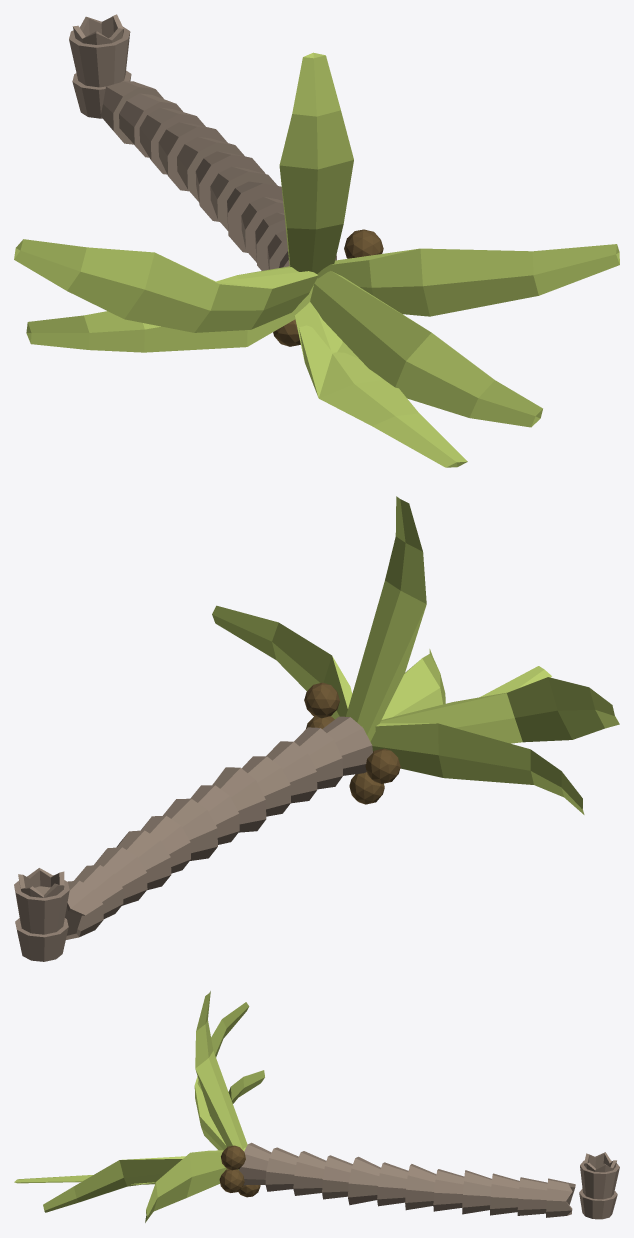
Rendered from Palmtree_2 Broken.fbx.
3 views of the same model, one above another, from view 1: azimuth 30°, elevation 25°; view 2: azimuth 150°, elevation 25°; view 3: azimuth 270°, elevation 25° (orthographic). The views are drawn at different scales.
Parts seen in each view (by area): view 1: Palmtree2Broken_mesh; view 2: Palmtree2Broken_mesh; view 3: Palmtree2Broken_mesh.
Boxes of the visible parts, x1,y1,x2,y2 form: Palmtree2Broken_mesh: (14, 14, 619, 467); Palmtree2Broken_mesh: (14, 496, 619, 961); Palmtree2Broken_mesh: (14, 991, 619, 1222).
Bounding box in the file's own units: 547 × 313 × 851.
